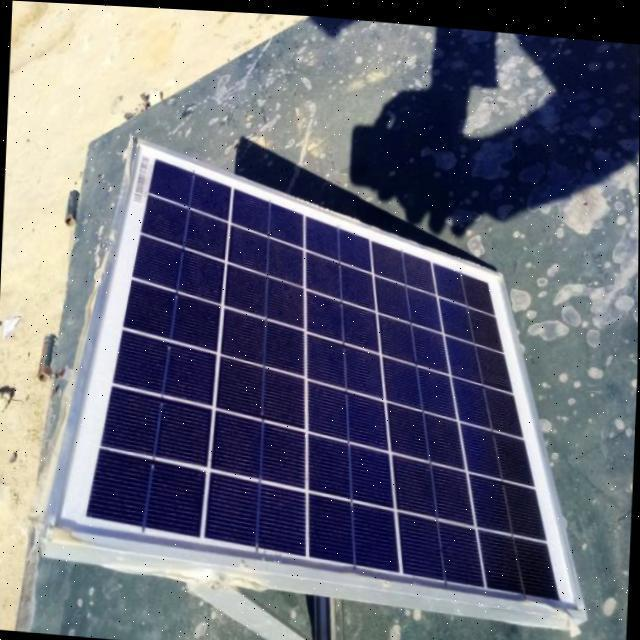Normal Solar Panel: (43, 128, 603, 610)
